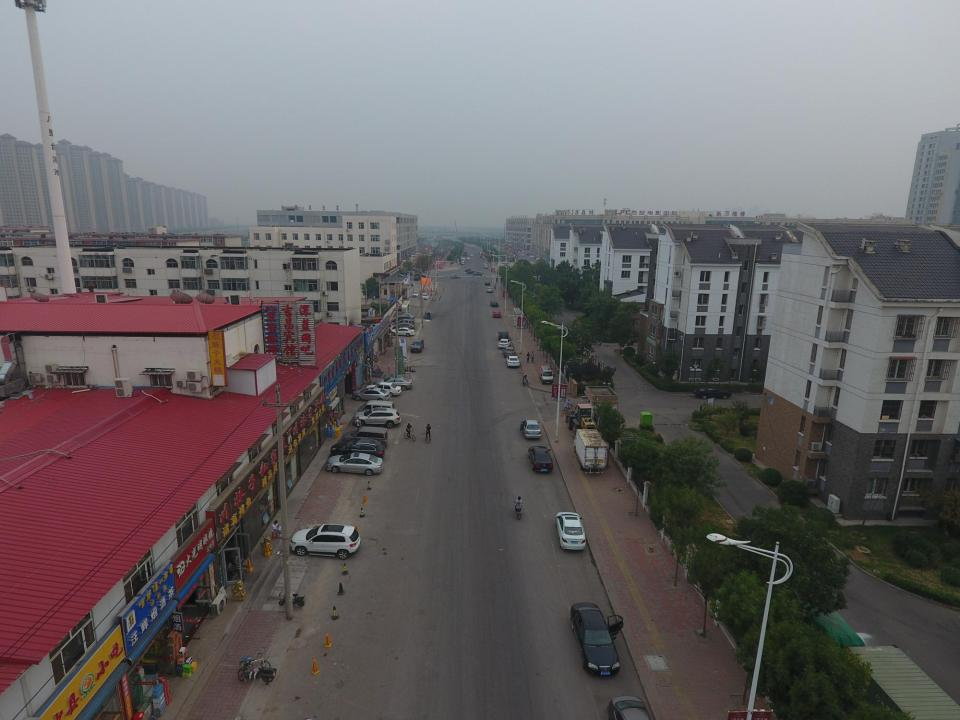car: (570, 602, 619, 675), (290, 523, 361, 560), (326, 452, 384, 475), (328, 438, 386, 459), (555, 512, 586, 551), (607, 694, 652, 720), (342, 426, 390, 447), (352, 407, 402, 427), (529, 446, 553, 472), (360, 400, 397, 416), (692, 386, 732, 400), (364, 382, 402, 396), (377, 376, 413, 390), (352, 388, 391, 400), (521, 419, 542, 439), (391, 327, 416, 337), (539, 366, 553, 383), (410, 338, 424, 353), (392, 323, 414, 331), (394, 314, 414, 322), (507, 354, 520, 366), (392, 320, 415, 326), (503, 346, 515, 357), (499, 339, 511, 347), (498, 331, 510, 339), (492, 310, 500, 318), (450, 273, 460, 279), (490, 300, 498, 306), (472, 271, 484, 275), (466, 270, 476, 274), (484, 280, 490, 286), (422, 293, 428, 299), (412, 291, 418, 297), (487, 286, 492, 292), (460, 260, 466, 264), (484, 263, 488, 268), (484, 262, 488, 266), (466, 256, 470, 260), (470, 253, 473, 257)
truck: (574, 428, 608, 474)
